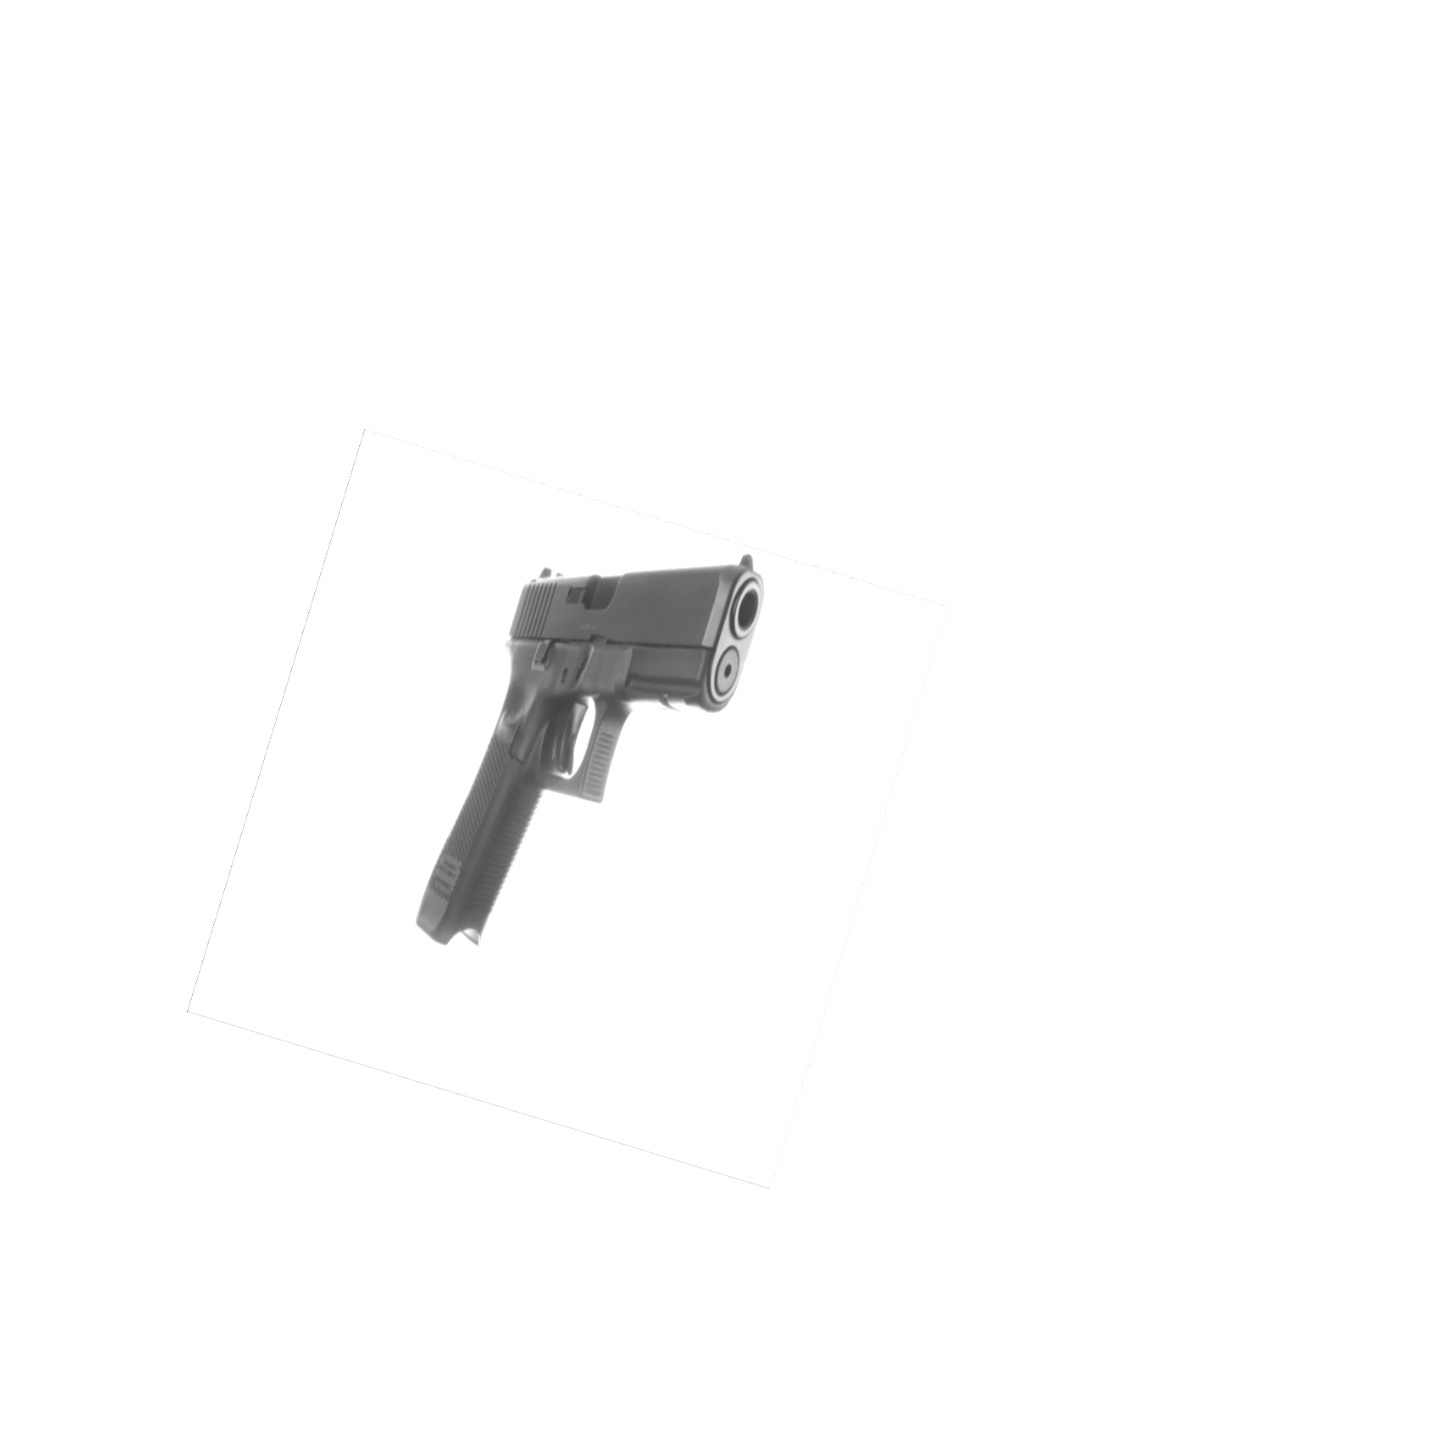gun: (415, 553, 768, 945)
